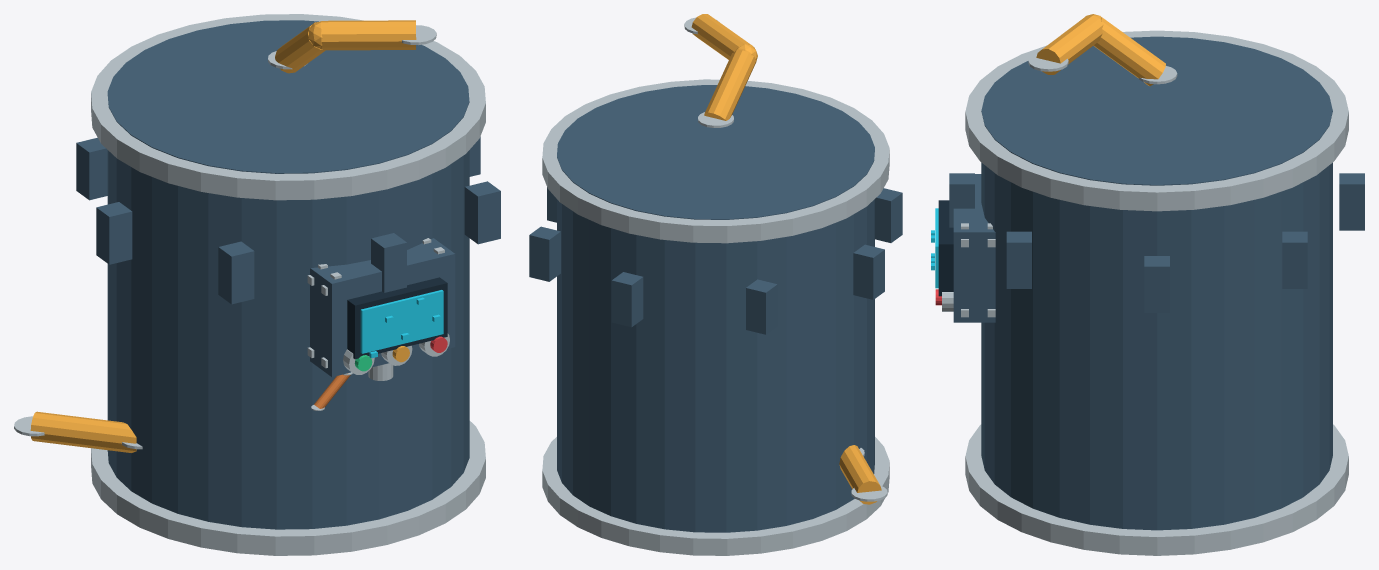
File: 15_L77_BulkCopperSlurryReservoir.fbx
The picture shows the model from 3 angles, left to right: view 1: azimuth 30°, elevation 25°; view 2: azimuth 150°, elevation 25°; view 3: azimuth 270°, elevation 25°; orthographic projection. The views are drawn at different scales.
Visible parts, largest first — view 1: BulkCopperSlurryReservoir; view 2: BulkCopperSlurryReservoir; view 3: BulkCopperSlurryReservoir.
Boxes of the visible parts, <box> form: BulkCopperSlurryReservoir: <box>14,14,500,555</box>; BulkCopperSlurryReservoir: <box>529,14,902,555</box>; BulkCopperSlurryReservoir: <box>931,14,1364,555</box>.
Size of the model in its own units: 146 by 159 by 136.
